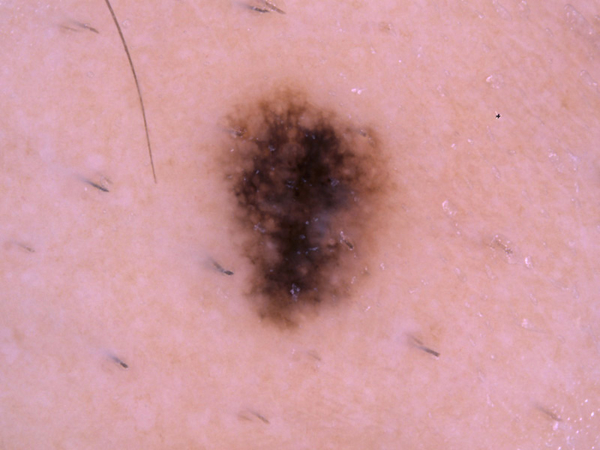Detected Lesion: (211, 82, 394, 335)
